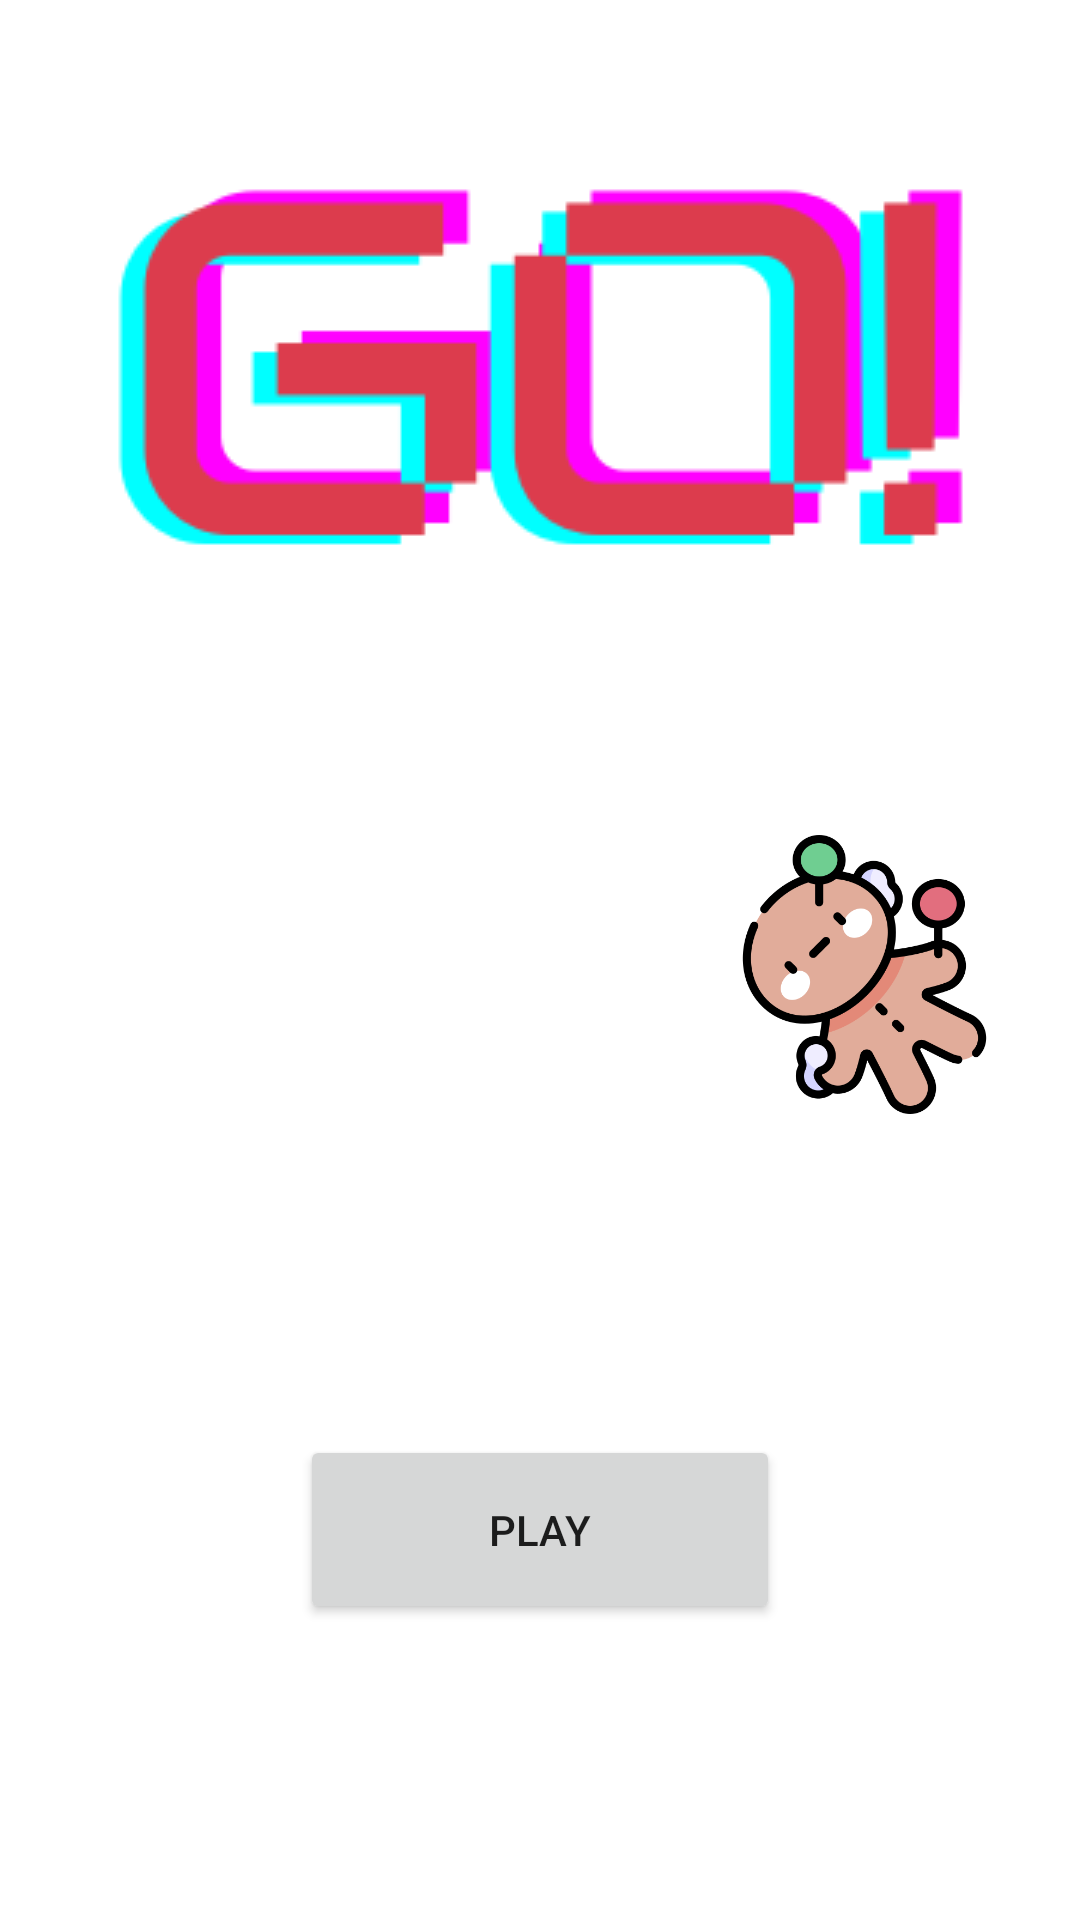

Named icons in this screenshot (1080px x 1920px) and their bounding boxes, [x1=x1, y1=y1, x2=x2, y2=y2]:
voodoo: [x1=742, y1=835, x2=987, y2=1114]
